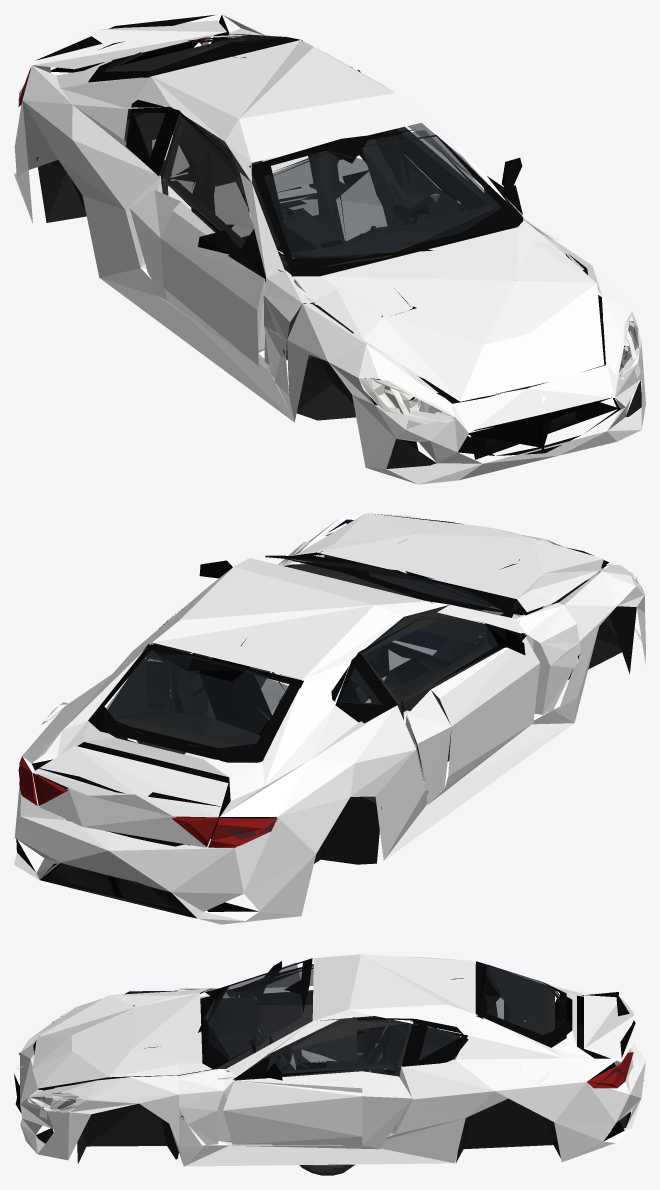
Rendered from granturismo_far.glb.
The picture shows the model from 3 angles, top to bottom: view 1: azimuth 30°, elevation 25°; view 2: azimuth 150°, elevation 25°; view 3: azimuth 270°, elevation 25°; orthographic projection. The views are drawn at different scales.
Visible parts, largest first — view 1: body_paint, body_trim, body_glass, doorR_paint, doorL_trim, doorR_glass, doorR_trim, body_head, doorL_paint, doorL_glass; view 2: body_paint, body_trim, doorR_paint, body_glass, doorR_glass, body_brake, doorR_trim, doorL_trim; view 3: body_paint, body_trim, doorL_paint, body_glass, doorR_trim, doorL_glass, doorL_trim, body_head, body_brake, wheel_tyre, doorR_glass.
Boxes of the visible parts, x1,y1,x2,y2 form: body_paint: [14, 15, 645, 484]; body_trim: [35, 15, 641, 468]; body_glass: [18, 34, 637, 372]; doorR_paint: [160, 173, 336, 394]; doorL_trim: [393, 126, 523, 225]; doorR_glass: [160, 115, 253, 248]; doorR_trim: [164, 171, 330, 383]; body_head: [358, 311, 641, 422]; doorL_paint: [431, 122, 560, 242]; doorL_glass: [359, 71, 478, 182]; body_paint: [14, 513, 645, 924]; body_trim: [16, 513, 636, 918]; doorR_paint: [431, 591, 580, 788]; body_glass: [19, 556, 503, 839]; doorR_glass: [361, 617, 497, 701]; body_brake: [18, 756, 277, 847]; doorR_trim: [397, 605, 580, 761]; doorL_trim: [169, 551, 323, 718]; body_paint: [18, 954, 645, 1166]; body_trim: [14, 958, 635, 1163]; doorL_paint: [179, 1019, 362, 1147]; body_glass: [32, 962, 625, 1109]; doorR_trim: [200, 961, 387, 1061]; doorL_glass: [266, 1020, 412, 1073]; doorL_trim: [179, 1025, 393, 1119]; body_head: [27, 1005, 86, 1113]; body_brake: [587, 1052, 633, 1088]; wheel_tyre: [299, 1164, 354, 1175]; doorR_glass: [266, 965, 313, 987].
Size of the model in its own units: 2.07 by 1.61 by 4.84.
